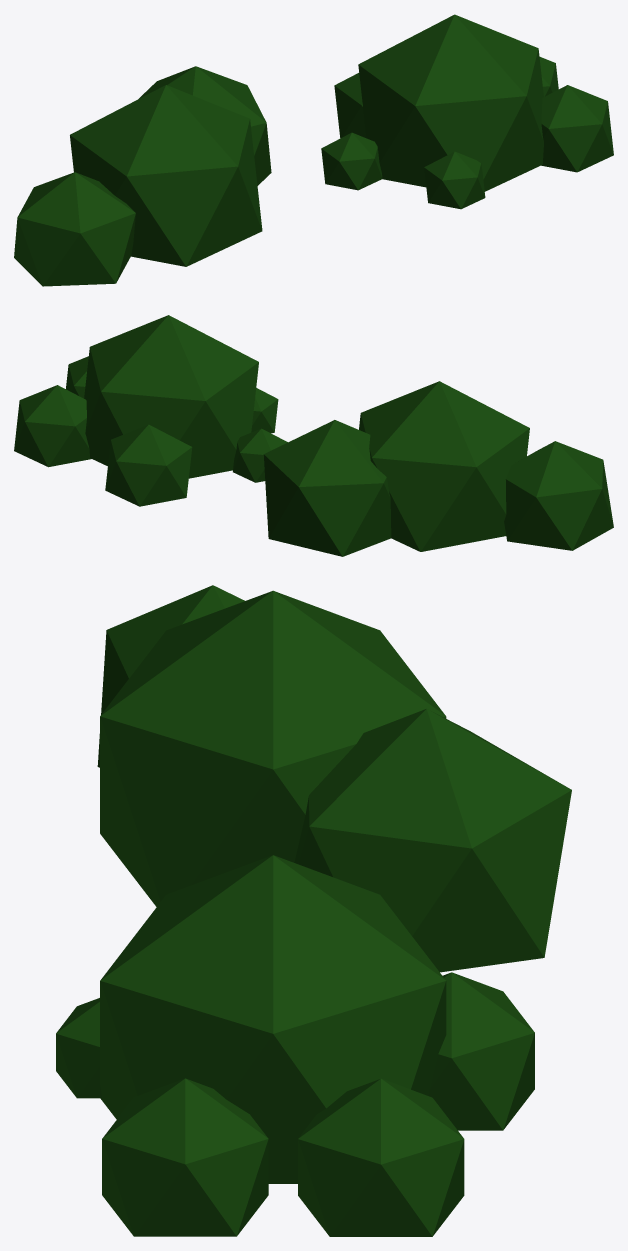
File: Busch.fbx
3 renders of one model, top to bottom at view 1: azimuth 30°, elevation 25°; view 2: azimuth 150°, elevation 25°; view 3: azimuth 270°, elevation 25°, orthographic. The views are drawn at different scales.
Visible parts, largest first — view 1: Busch; view 2: Busch; view 3: Busch.
Part boxes in pixels (box(x1,y1,x2,y2)): Busch: box(14, 14, 613, 286); Busch: box(14, 315, 613, 556); Busch: box(56, 585, 571, 1236).
Bounding box in the file's own units: 618 × 151 × 254.
